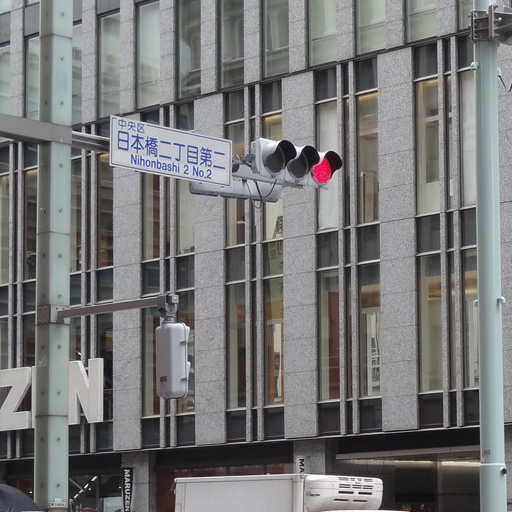Traffic_Signal_Red: (242, 129, 350, 190)
